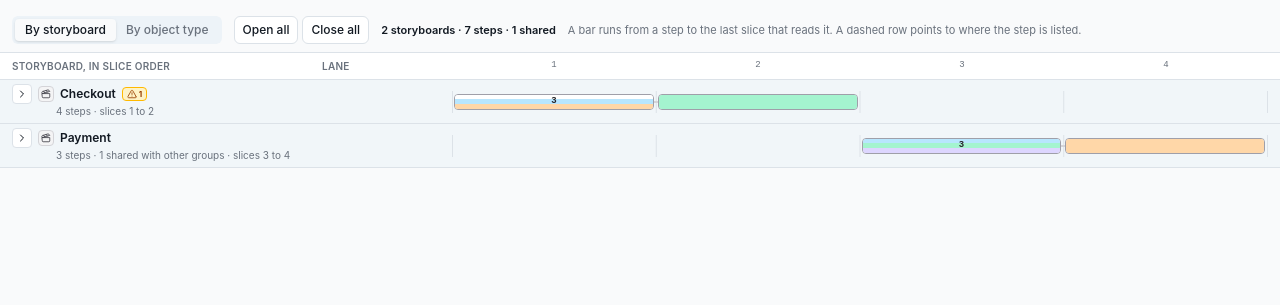
Test: WaterfallBoard › shows issue counts from the validator on rows and group headers
Expected: the element showing "1" is shown, 122,87 -> 147,101
Click the button named "Open Checkout" at (22, 94), box 12,84 -> 32,104
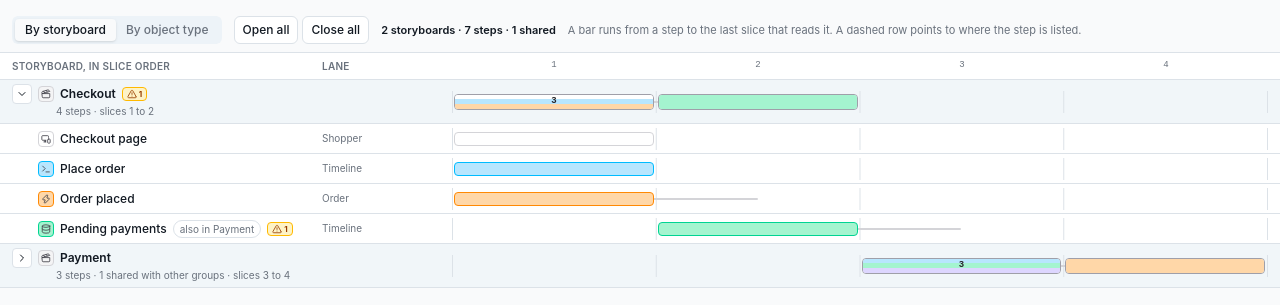
Expected: the element showing "1" in the row of "also in" is shown, 284,224 -> 288,234
